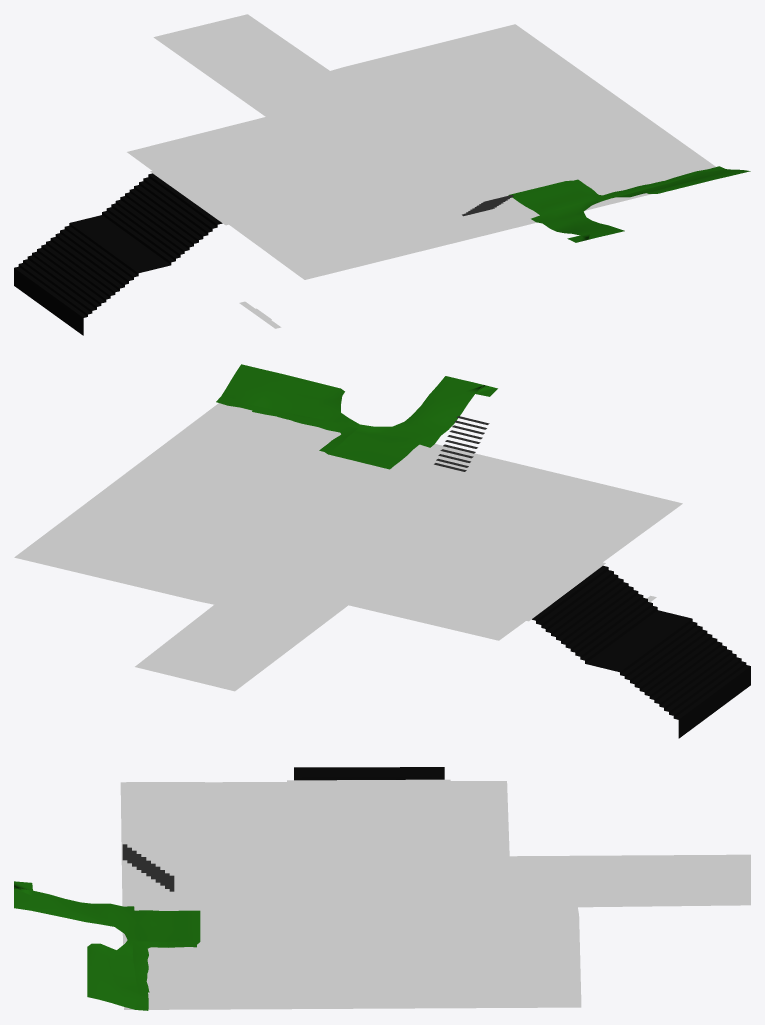
The model's file is Terasa_Nav_.fbx.
3 views of the same model, one above another, from view 1: azimuth 30°, elevation 25°; view 2: azimuth 150°, elevation 25°; view 3: azimuth 270°, elevation 25° (orthographic). The views are drawn at different scales.
Visible parts, largest first — view 1: nav; view 2: nav, nav.013; view 3: nav, nav.013.
Part boxes in pixels (<box>): nav: <box>14,14,750,335</box>; nav: <box>14,364,750,738</box>; nav.013: <box>434,416,489,471</box>; nav: <box>14,767,750,1010</box>; nav.013: <box>122,844,174,891</box>.
Size of the model in its own units: 3883 by 712 by 3926.
